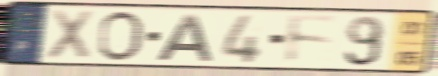4: (219, 13, 263, 65)
9: (342, 13, 388, 69)
A: (154, 12, 214, 62)
F: (285, 13, 340, 66)
O: (94, 9, 145, 63)
X: (42, 7, 99, 63)
